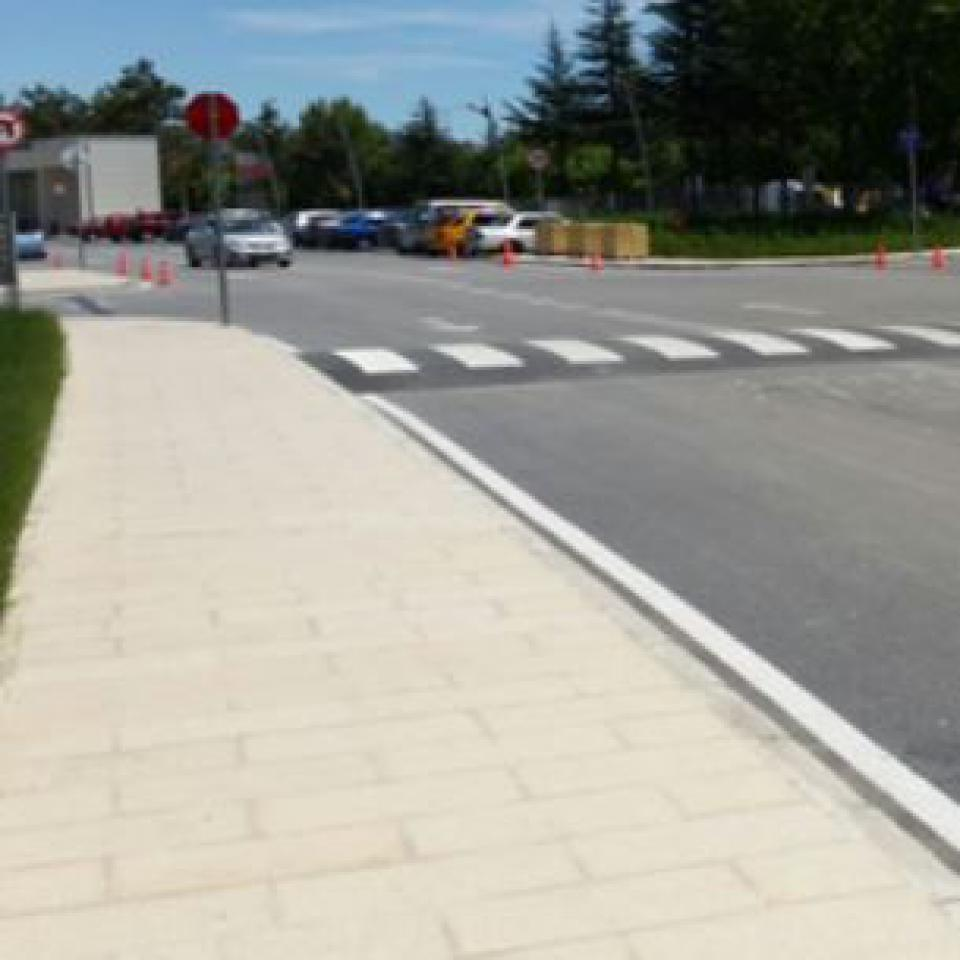speedbreaker: (340, 276, 944, 396)
